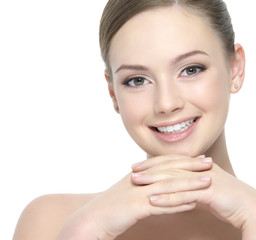teen: (95, 4, 244, 154)
